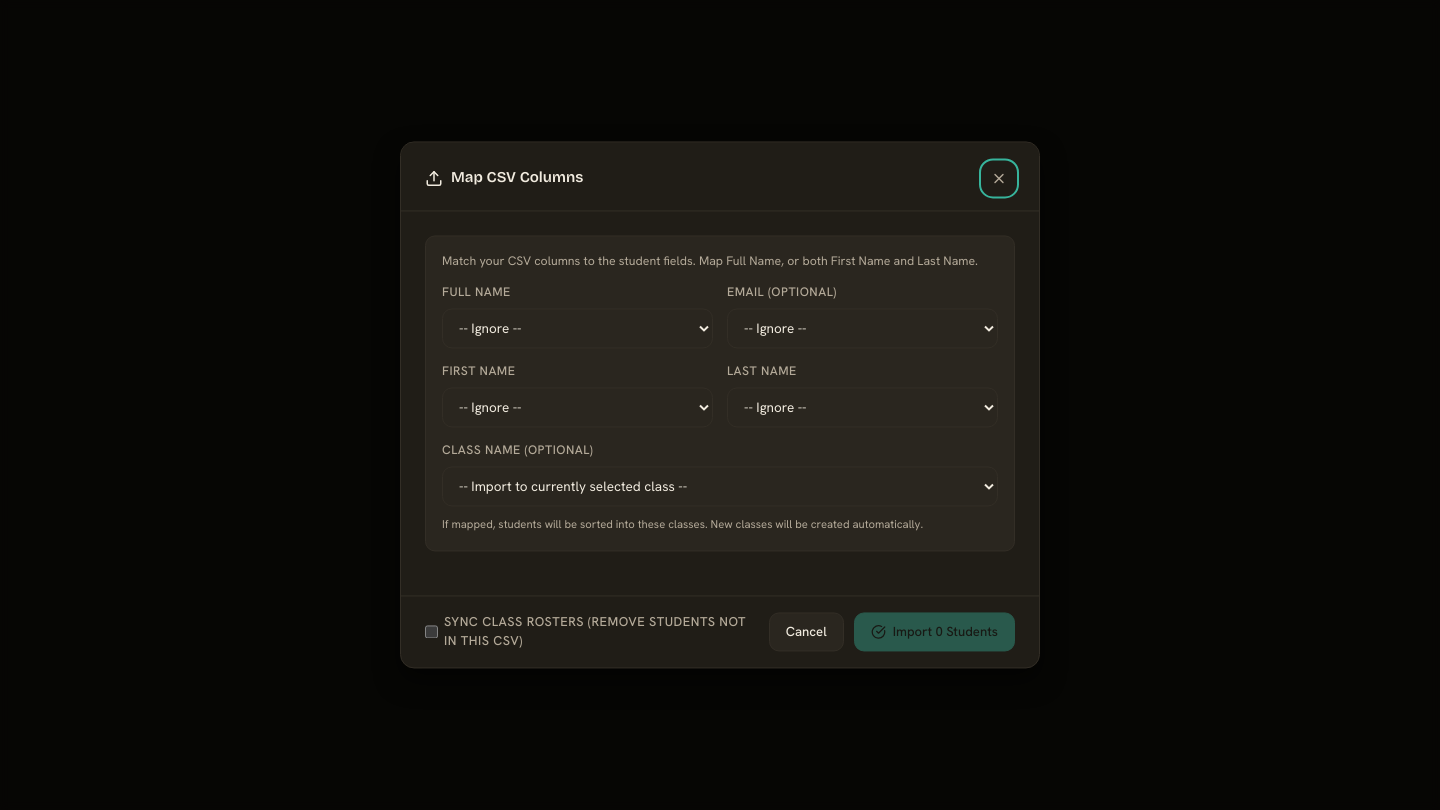
it: CsvImportModal › disables the import button until a name mapping is selected
Check: the button "Import 0 Students" is disabled, box [854,612,1015,652]
Check: the text "Data Preview (First 3 rows)" is not shown
Select "Foo" in the 1st dropdown at (578, 328), box [442,308,713,348]
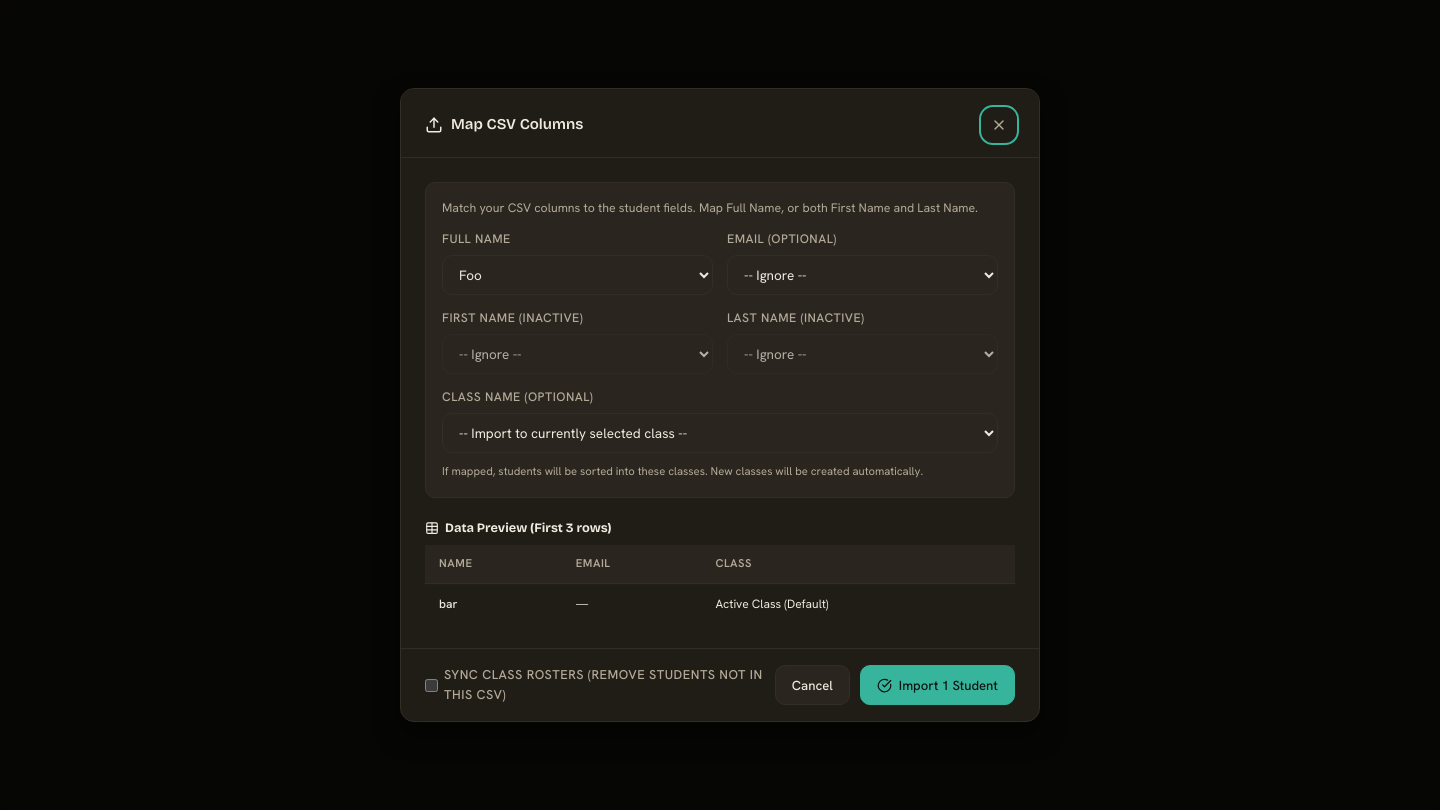
Check: the button "Import 1 Student" is enabled, box [860,666,1015,705]
Check: the heading "Data Preview (First 3 rows)" is shown, box [425,520,612,535]
